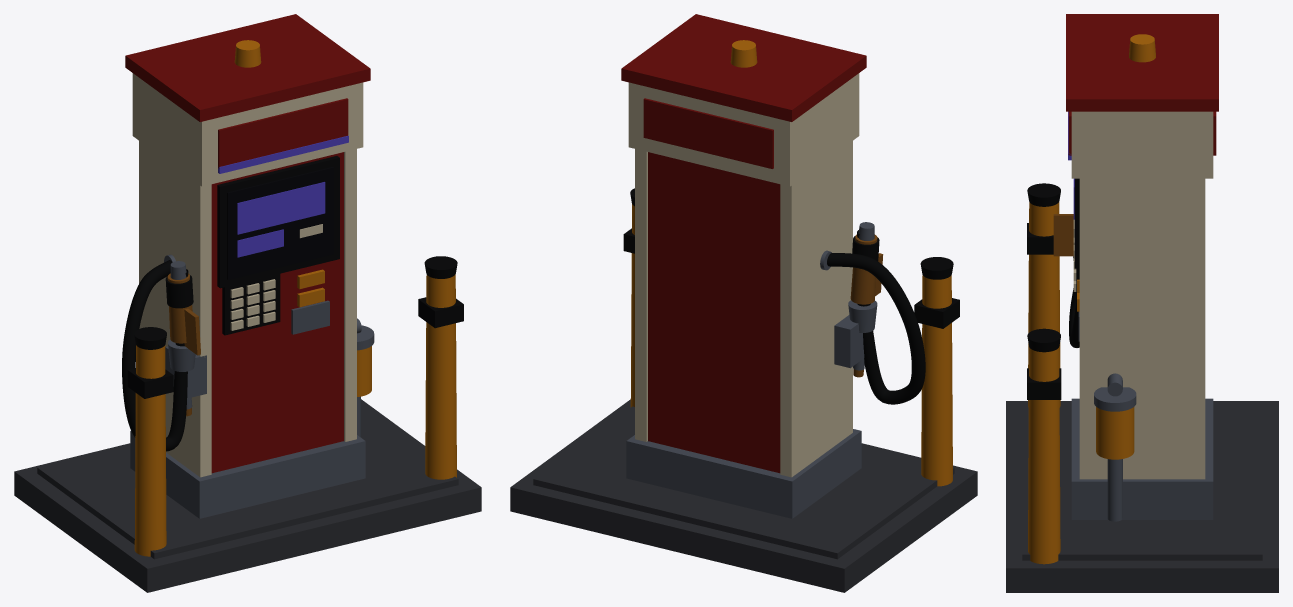
File: farm-fuel-pump.obj
3 renders of one model, left to right at view 1: azimuth 30°, elevation 25°; view 2: azimuth 150°, elevation 25°; view 3: azimuth 270°, elevation 25°, orthographic. The views are drawn at different scales.
Visible parts, largest first — view 1: cabinet, concrete_pad, pad_chamfer, canopy_cap, corner_post_l, head_shroud, base_plinth, bollard_l, display_glass, bollard_r, sign_panel, corner_post_r (+18 smaller); view 2: cabinet, corner_post_l, pad_chamfer, concrete_pad, canopy_cap, base_plinth, head_shroud, bollard_l, sign_panel_rear, hose, corner_post_r, boot_bracket (+6 smaller); view 3: corner_post_r, pad_chamfer, concrete_pad, canopy_cap, head_shroud, base_plinth, bollard_r, bollard_l, filter_canister, inlet_pipe, trigger_guard, filter_collar (+7 smaller).
Part boxes in pixels (bbox=[...]): cabinet: bbox=[211, 152, 343, 473]; concrete_pad: bbox=[14, 399, 481, 592]; pad_chamfer: bbox=[37, 408, 458, 559]; canopy_cap: bbox=[125, 14, 370, 121]; corner_post_l: bbox=[139, 141, 211, 477]; head_shroud: bbox=[132, 73, 363, 186]; base_plinth: bbox=[130, 431, 365, 518]; bollard_l: bbox=[134, 345, 166, 556]; display_glass: bbox=[227, 167, 333, 279]; bollard_r: bbox=[425, 274, 456, 479]; sign_panel: bbox=[218, 98, 348, 168]; corner_post_r: bbox=[344, 149, 356, 441]; cabinet: bbox=[648, 152, 780, 473]; corner_post_l: bbox=[780, 141, 852, 477]; pad_chamfer: bbox=[533, 406, 954, 559]; concrete_pad: bbox=[510, 399, 977, 592]; canopy_cap: bbox=[621, 14, 866, 121]; base_plinth: bbox=[626, 429, 861, 518]; head_shroud: bbox=[628, 73, 859, 186]; bollard_l: bbox=[921, 275, 952, 486]; sign_panel_rear: bbox=[643, 98, 773, 168]; hose: bbox=[827, 230, 925, 404]; corner_post_r: bbox=[635, 149, 647, 441]; boot_bracket: bbox=[834, 315, 864, 368]; corner_post_r: bbox=[1079, 178, 1205, 479]; pad_chamfer: bbox=[1022, 402, 1262, 560]; concrete_pad: bbox=[1006, 401, 1278, 592]; canopy_cap: bbox=[1066, 14, 1218, 111]; head_shroud: bbox=[1071, 111, 1213, 178]; base_plinth: bbox=[1071, 398, 1213, 519]; bollard_r: bbox=[1028, 347, 1060, 564]; bollard_l: bbox=[1028, 202, 1060, 407]; filter_canister: bbox=[1096, 407, 1134, 459]; inlet_pipe: bbox=[1107, 459, 1122, 521]; trigger_guard: bbox=[1053, 214, 1073, 256]; filter_collar: bbox=[1094, 387, 1136, 411].
Size of the model in its own units: 1.45 by 1.9 by 1.
